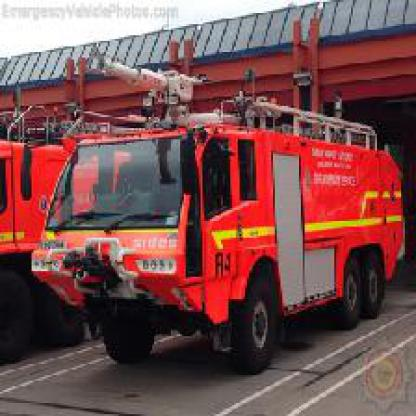emergency: (22, 76, 414, 368)
